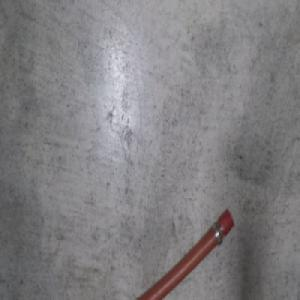Hose: (127, 207, 235, 300)
